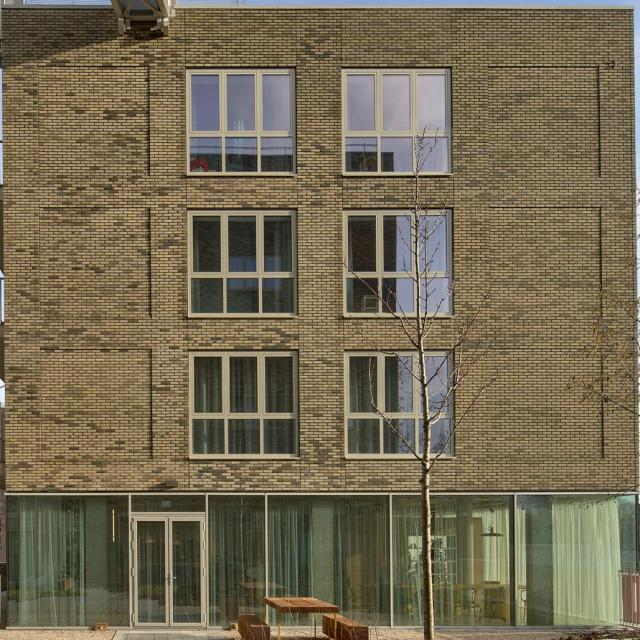door: (129, 511, 211, 626)
window: (7, 491, 636, 625), (188, 68, 294, 172), (341, 68, 447, 172), (186, 208, 292, 312), (339, 207, 445, 311), (196, 348, 302, 452), (349, 348, 455, 452)
